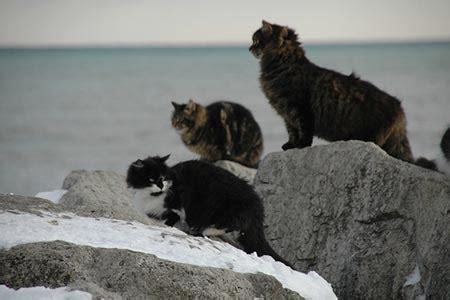cat: (249, 18, 417, 163), (126, 153, 288, 266), (170, 100, 264, 169)
